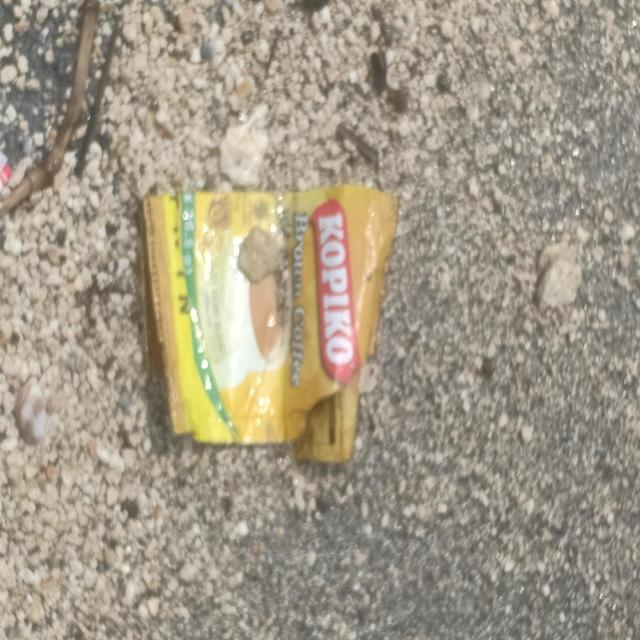plastic_waste: (144, 187, 402, 465)
